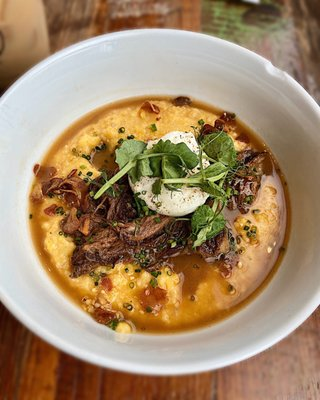pizza: (102, 0, 203, 33)
sushi: (1, 28, 319, 378)
